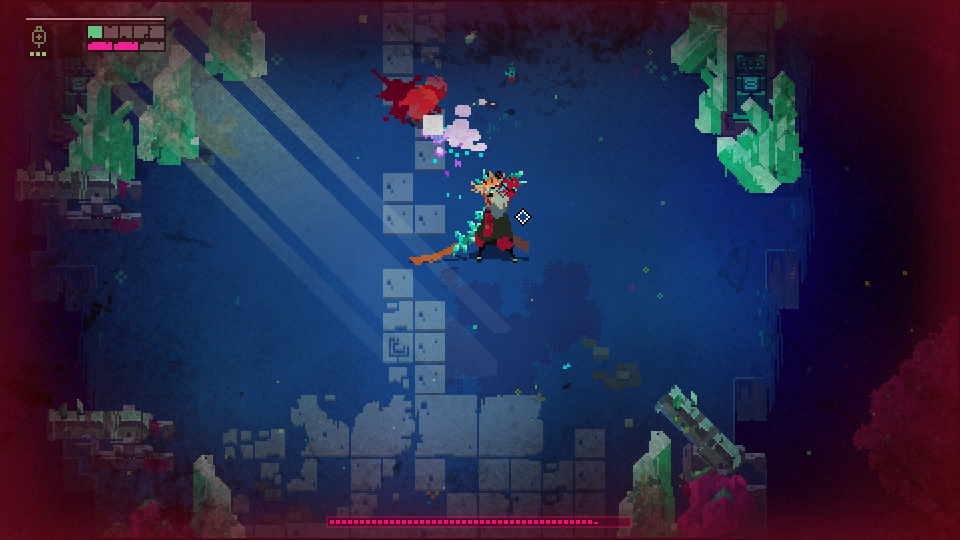hanged_man: (440, 167, 532, 265)
player: (395, 77, 448, 122)
